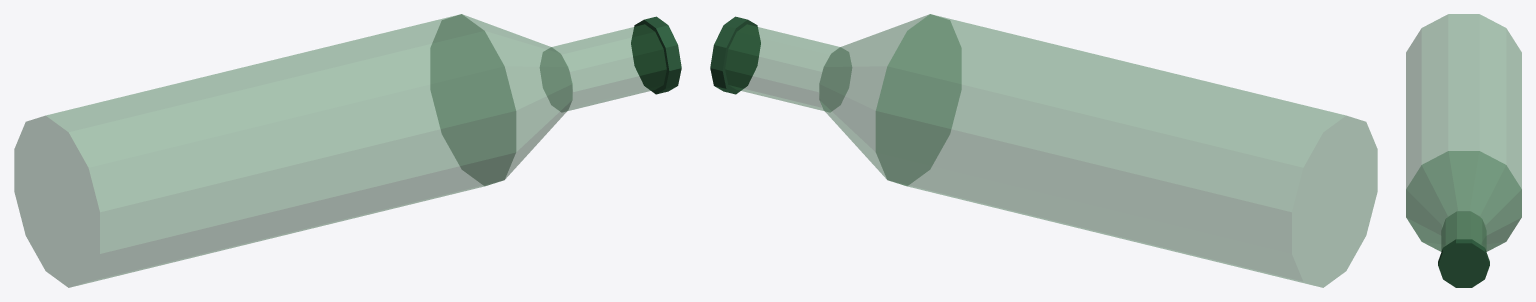
File: bottle_glass.glb
The picture shows the model from 3 angles, left to right: view 1: azimuth 30°, elevation 25°; view 2: azimuth 150°, elevation 25°; view 3: azimuth 270°, elevation 25°; orthographic projection. The views are drawn at different scales.
Parts seen in each view (by area): view 1: block_body, block_shoulder, block_neck, block_lip; view 2: block_body, block_shoulder, block_neck, block_lip; view 3: block_body, block_shoulder, block_lip, block_neck.
Boxes of the visible parts, bbox=[...] form: block_body: bbox=[14, 14, 516, 287]; block_shoulder: bbox=[430, 14, 572, 185]; block_neck: bbox=[540, 24, 666, 111]; block_lip: bbox=[631, 16, 681, 94]; block_body: bbox=[875, 14, 1377, 287]; block_shoulder: bbox=[819, 14, 961, 185]; block_neck: bbox=[725, 24, 851, 111]; block_lip: bbox=[710, 16, 760, 94]; block_body: bbox=[1406, 14, 1521, 250]; block_shoulder: bbox=[1406, 151, 1521, 251]; block_lip: bbox=[1438, 239, 1489, 287]; block_neck: bbox=[1441, 211, 1486, 251].
Bounding box in the file's own units: 0.291 × 0.0715 × 0.0715.
2 materials, 2 textured.
